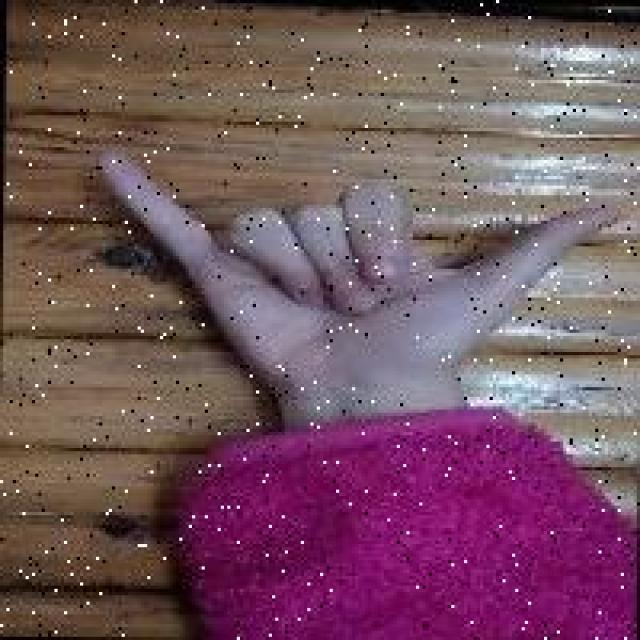Y: (88, 147, 622, 381)
